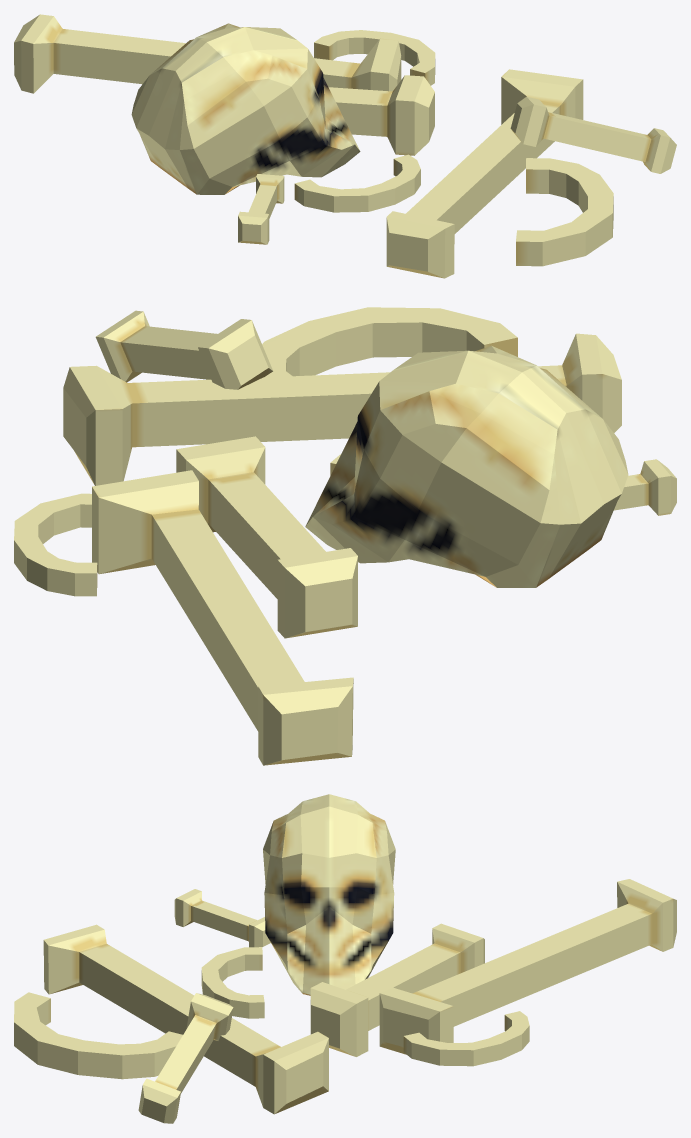
File: Bones.fbx
The picture shows the model from 3 angles, top to bottom: view 1: azimuth 30°, elevation 25°; view 2: azimuth 150°, elevation 25°; view 3: azimuth 270°, elevation 25°; orthographic projection. The views are drawn at different scales.
Parts seen in each view (by area): view 1: Skull; view 2: Skull; view 3: Skull.
Boxes of the visible parts, box(x1,y1,x2,y2) form: Skull: box(14, 14, 676, 278); Skull: box(14, 307, 676, 765); Skull: box(14, 794, 676, 1123).
Size of the model in its own units: 313 by 892 by 1182.
